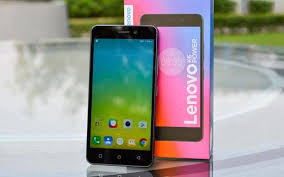lenovo: (81, 23, 161, 169)
